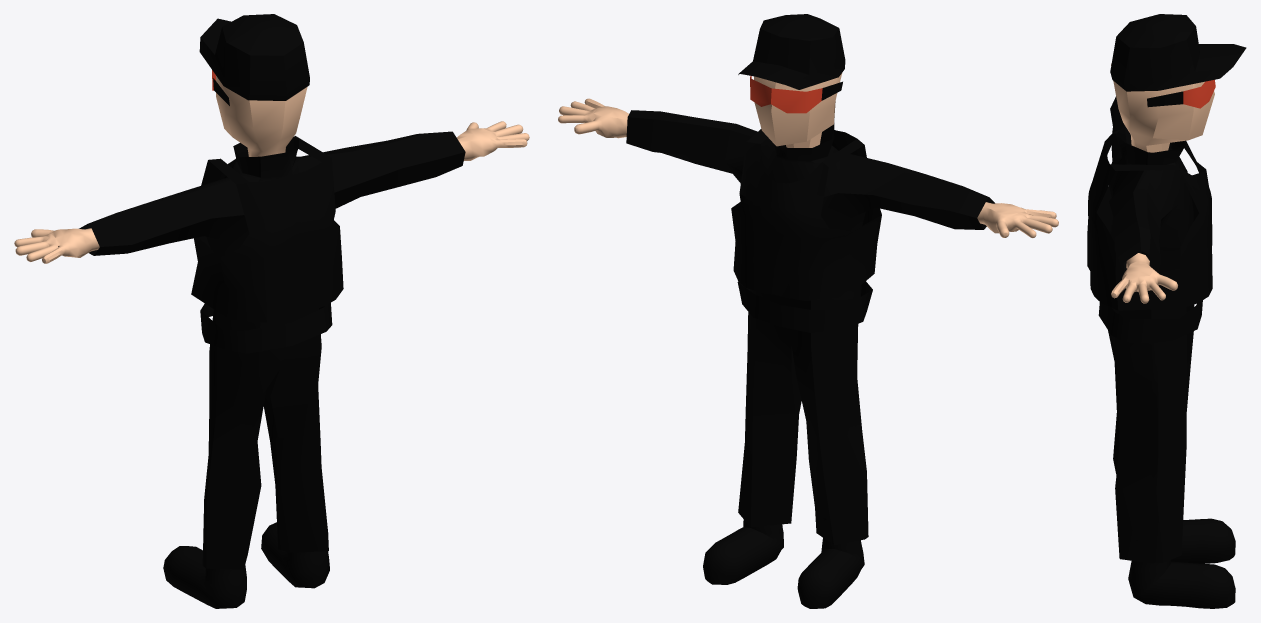
Rendered from guardiafaserig-obj.fbx.
3 views of the same model, side by side, from view 1: azimuth 30°, elevation 25°; view 2: azimuth 150°, elevation 25°; view 3: azimuth 270°, elevation 25° (orthographic). The views are drawn at different scales.
Parts seen in each view (by area): view 1: default; view 2: default; view 3: default.
Part boxes in pixels (x1,y1,x2,y2): default: (14, 14, 529, 608); default: (558, 14, 1058, 608); default: (1087, 14, 1246, 608).
Size of the model in its own units: 153 by 164 by 42.34.
